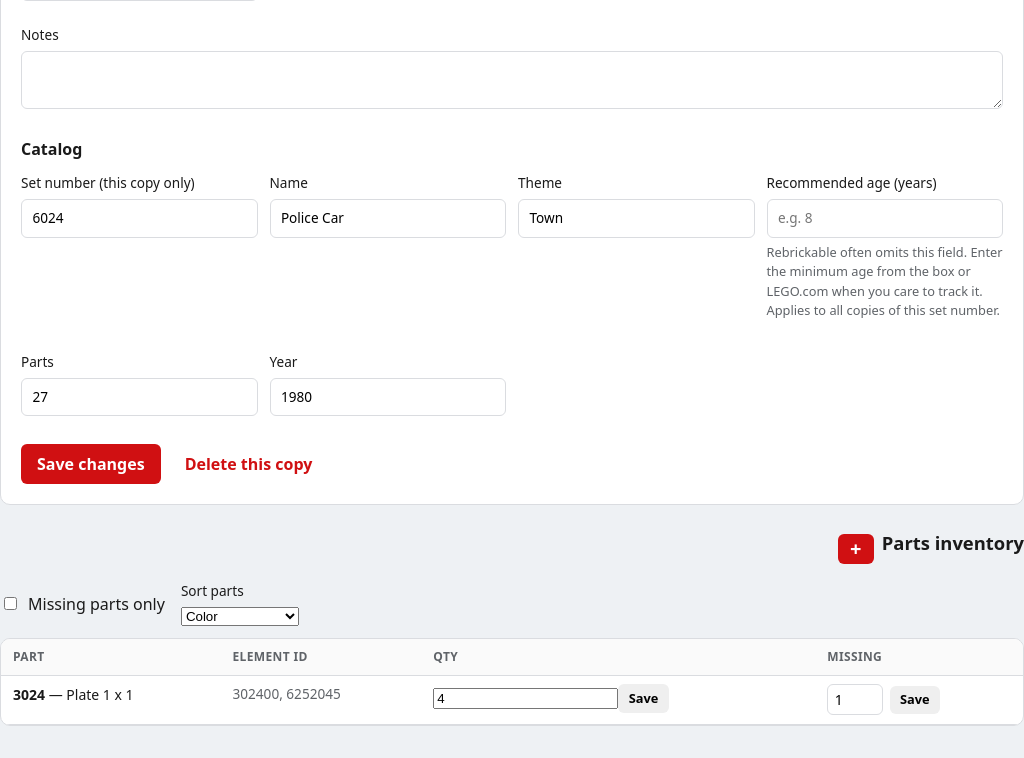
SetDetailPage › opens edit modal when clicking a part row
(page scrolled)
What coordinates should you click on to do the following:
click the text "3024 — Plate 1 x 1"
I would click on:
 (73, 695)
Its box is x1=13 y1=684 x2=134 y2=705.
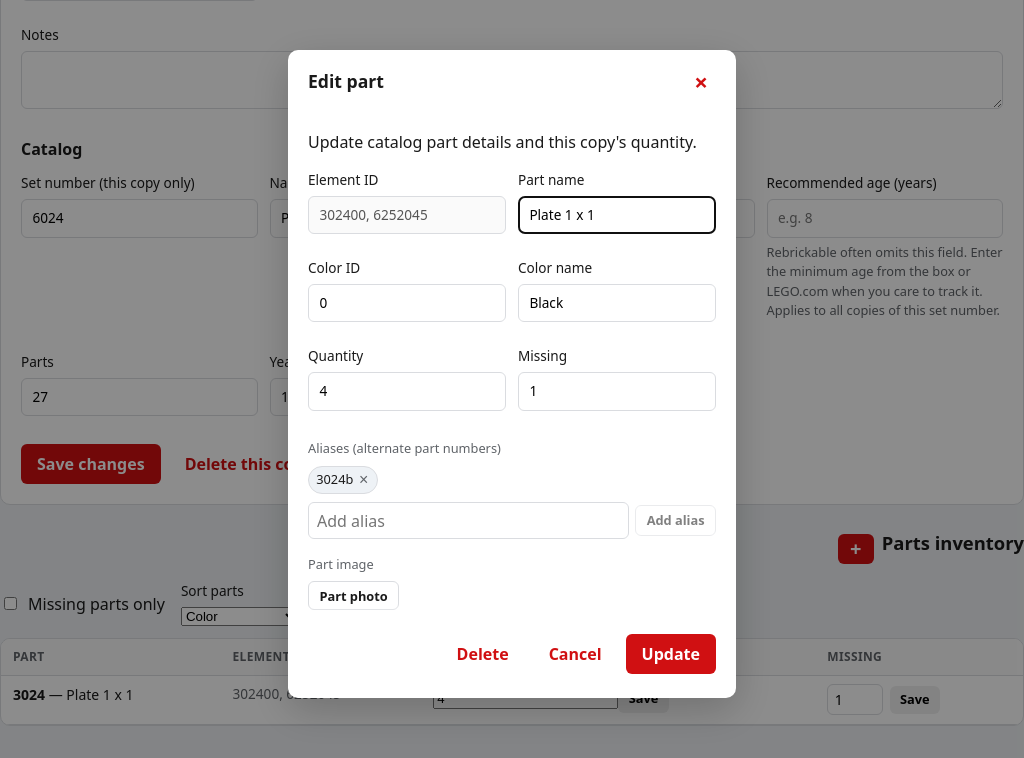
Expected: the heading "Edit part" is shown, x1=308 y1=68 x2=384 y2=95
Expected: the field showing "302400, 6252045" is shown, x1=308 y1=196 x2=506 y2=234
Expected: the button "Update" is shown, x1=626 y1=634 x2=716 y2=674
